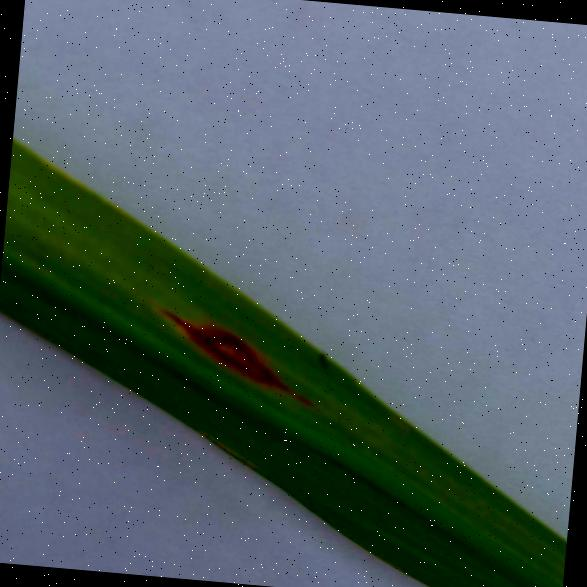Leaf_smut: (141, 251, 336, 426)
